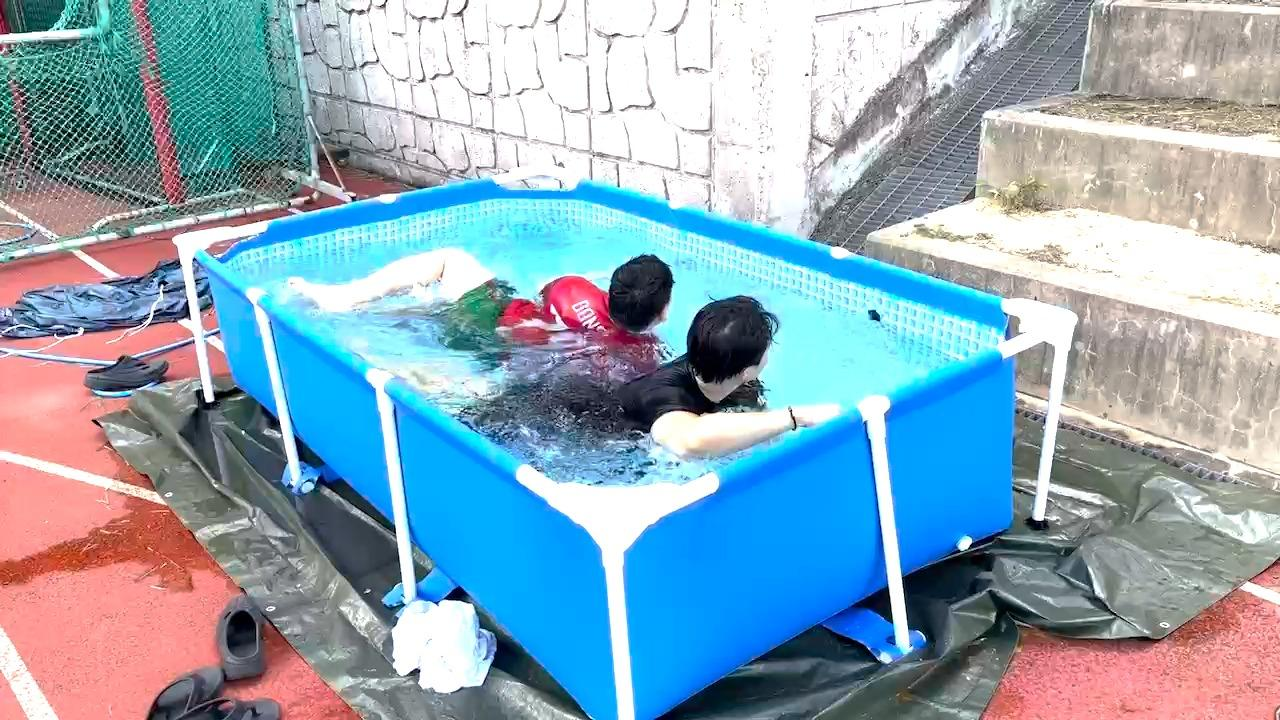Swimming: (450, 288, 824, 476), (268, 215, 663, 350)
